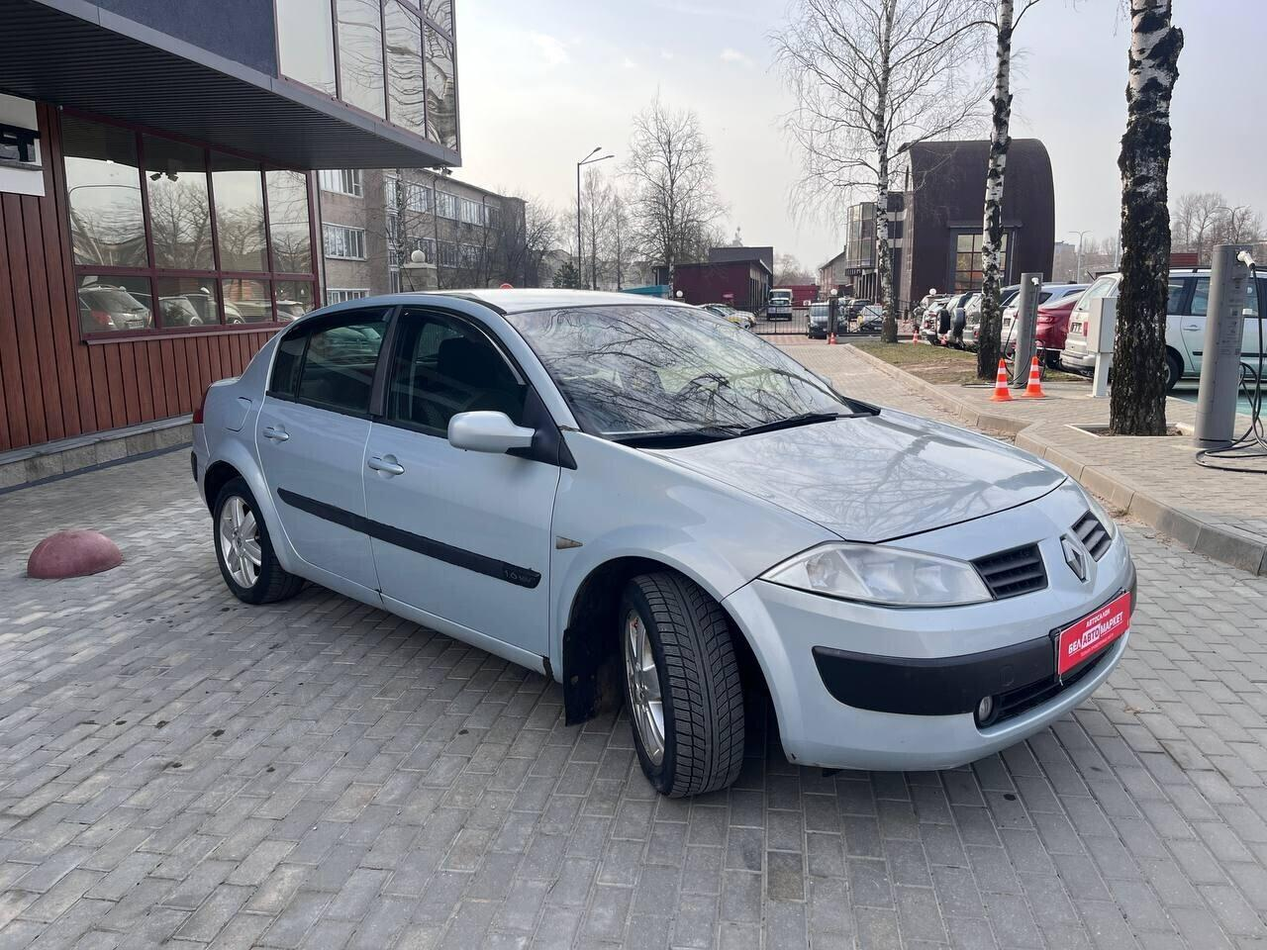Megane_2002-2006: (187, 287, 1137, 792)
